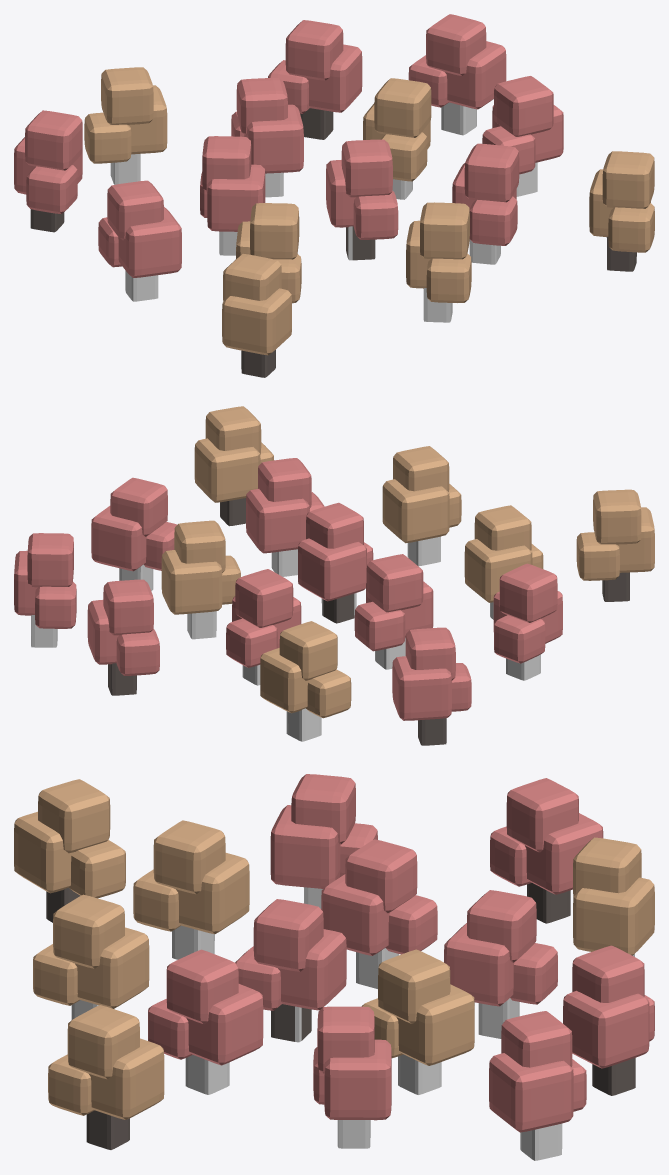
The model's file is tree.fbx.
3 renders of one model, top to bottom at view 1: azimuth 30°, elevation 25°; view 2: azimuth 150°, elevation 25°; view 3: azimuth 270°, elevation 25°, orthographic. The views are drawn at different scales.
Visible parts, largest first — view 1: tree2; view 2: tree2; view 3: tree2.
Part boxes in pixels (x1=…): tree2: x1=14, y1=14, x2=654, y2=377; tree2: x1=14, y1=406, x2=654, y2=745; tree2: x1=14, y1=774, x2=654, y2=1160.
Bounding box in the file's own units: 3133 × 666 × 3064.
